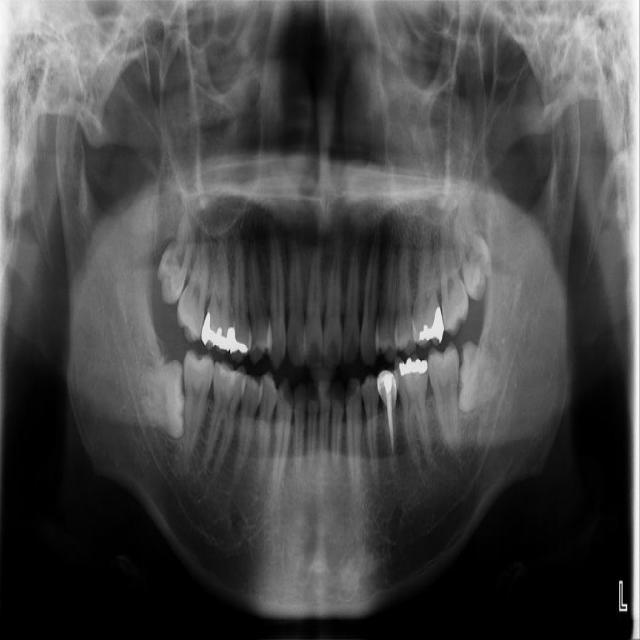3M ESPE Implant: (150, 203, 202, 308)
52: (410, 297, 447, 350), (199, 307, 236, 357), (394, 353, 430, 400), (228, 320, 252, 363), (376, 369, 399, 411)
73: (382, 403, 403, 482), (601, 584, 606, 596)
BioHorizons Implant: (436, 208, 470, 339)
BioLife Implant: (439, 180, 502, 307)
Biomet 3i Implant: (455, 339, 506, 419)
Blue Sky Bio Implant: (427, 339, 462, 460)
Caries: (173, 235, 213, 346)
Implant: (182, 351, 214, 467)
Keystone Dental Implant: (139, 358, 186, 439)
